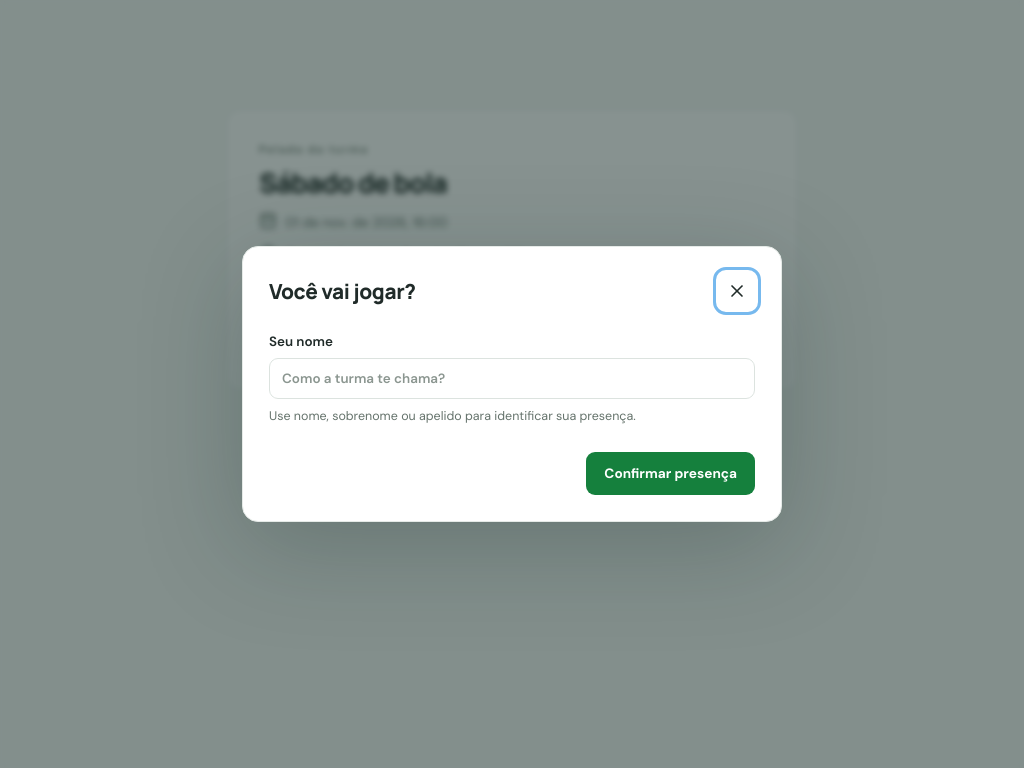
it: link compartilhado abre modal, pede só nome e confirma local sem conta
Type "João" into the field labelled "Seu nome" at point(512, 379), box [269,358,755,399]
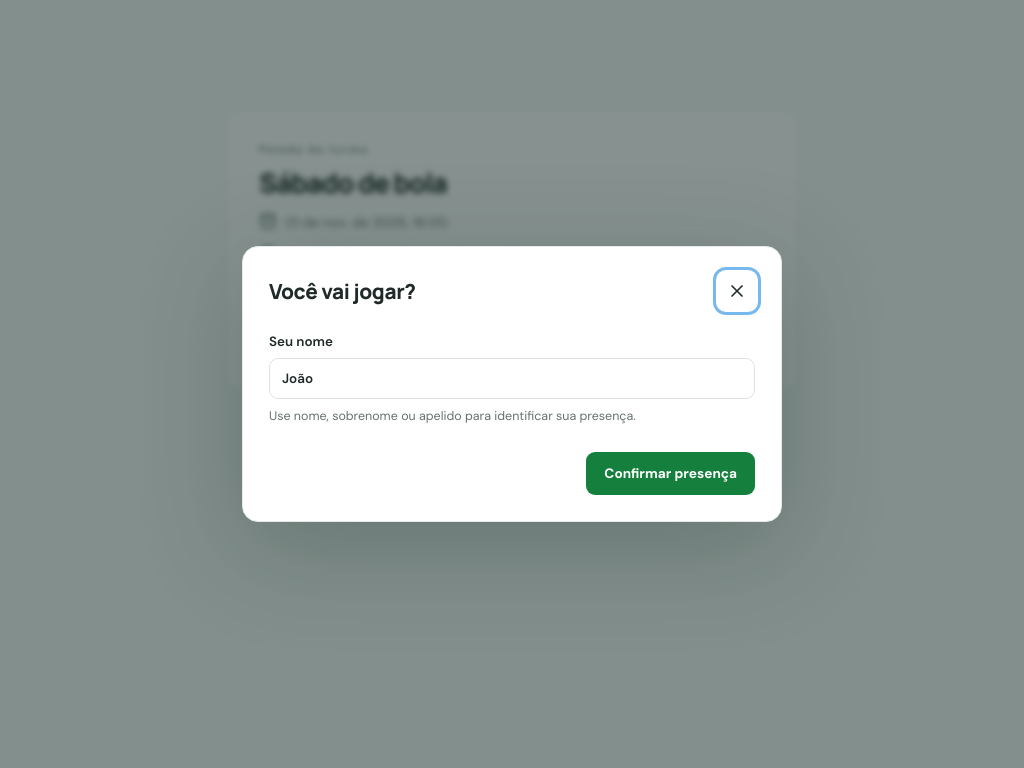
Click the button "Confirmar presença" at point(671, 473), box [586,452,755,495]
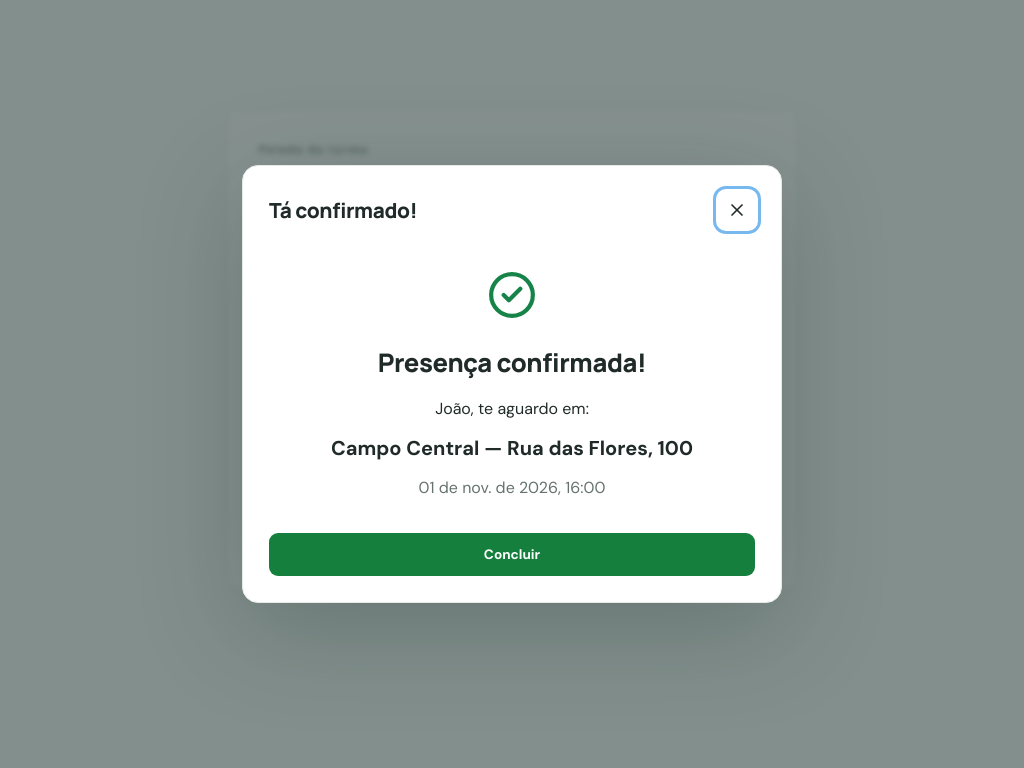
Expected: the heading "Presença confirmada!" is shown, [378,345,646,380]
Expected: the text "Campo Central — Rua das Flores, 100" is shown, [331,436,693,462]
Expected: the text "João, te aguardo em:" is shown, [435,398,589,419]
